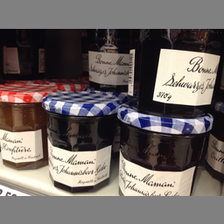jam: (119, 104, 214, 197), (128, 29, 220, 118), (42, 90, 118, 193), (1, 83, 45, 171)
